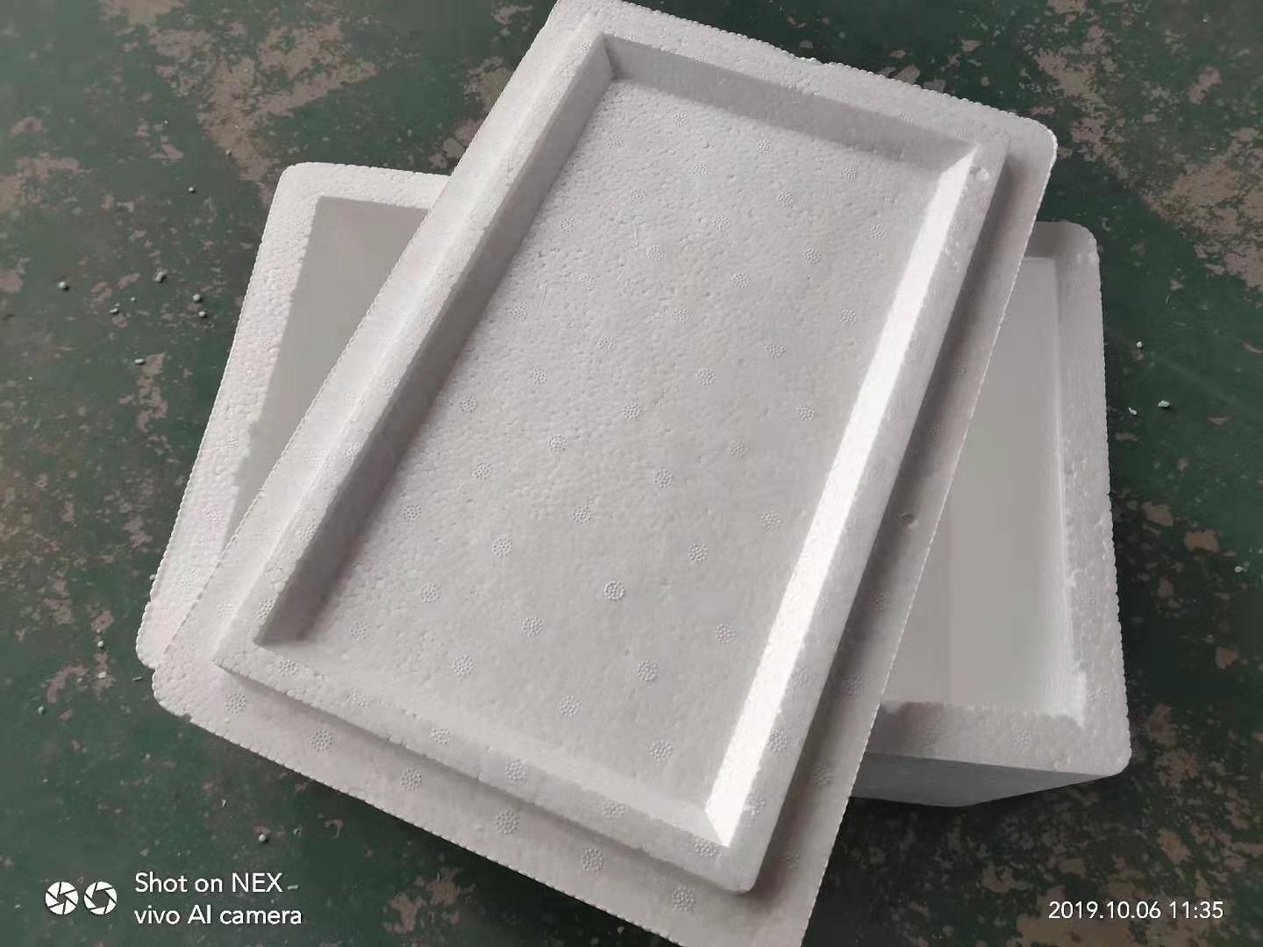Boxes: (138, 0, 1128, 947)
